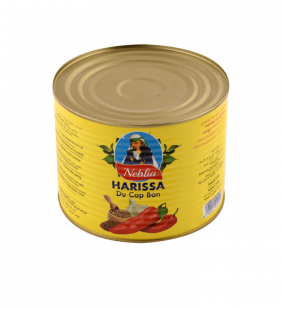NEBLIA: (48, 40, 234, 248)
